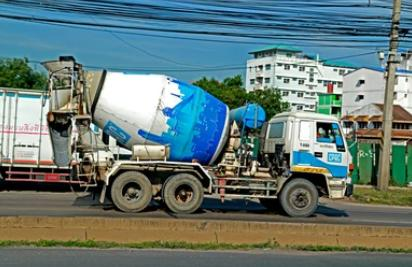vehicle: (41, 61, 353, 217)
